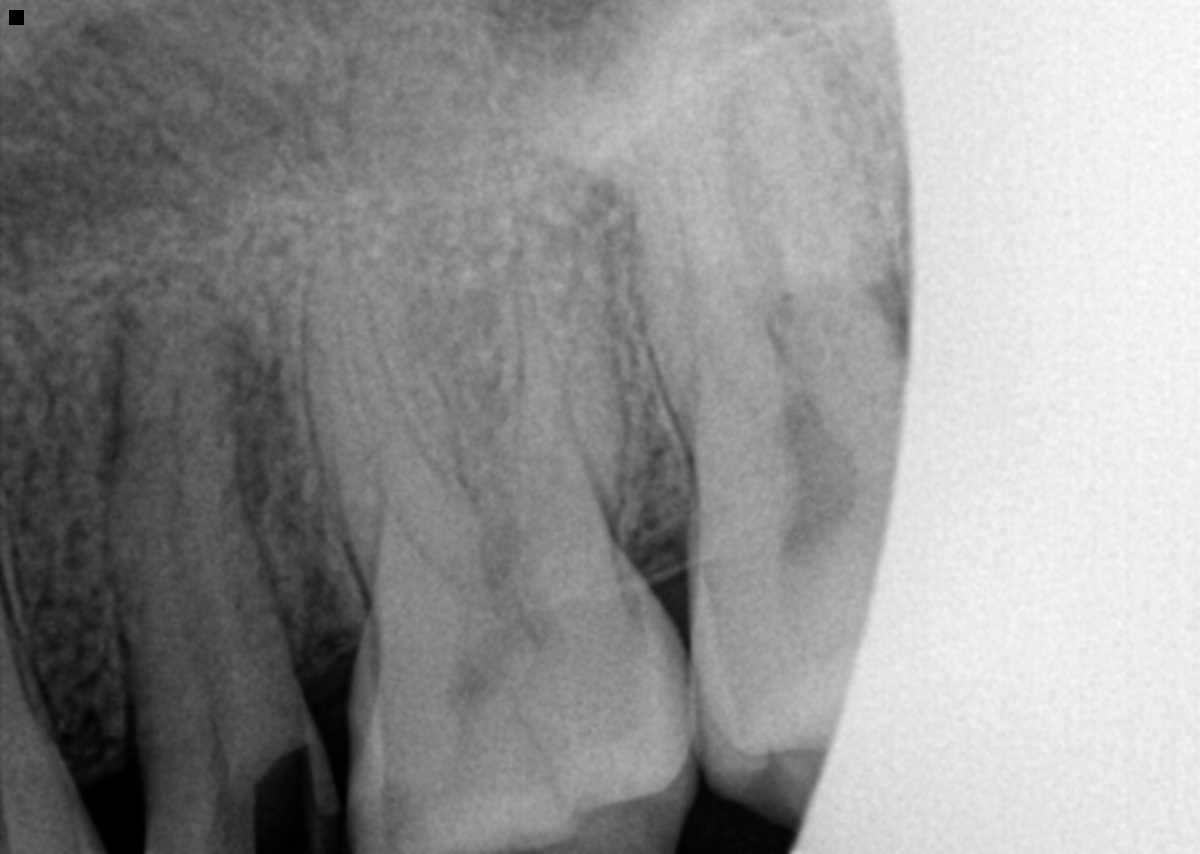Apical Lesion: (88, 265, 284, 510)
Distal Canal: (510, 318, 565, 575)
Distal Root: (512, 156, 625, 545)
Main Canal: (168, 384, 237, 703)
Main Root: (102, 282, 307, 759), (0, 542, 58, 754)
Mesial Canal: (342, 363, 472, 601)
Mesial Root: (302, 226, 487, 628)
Palatal Root: (351, 0, 612, 590), (641, 0, 914, 485)
decay: (224, 732, 340, 849)
